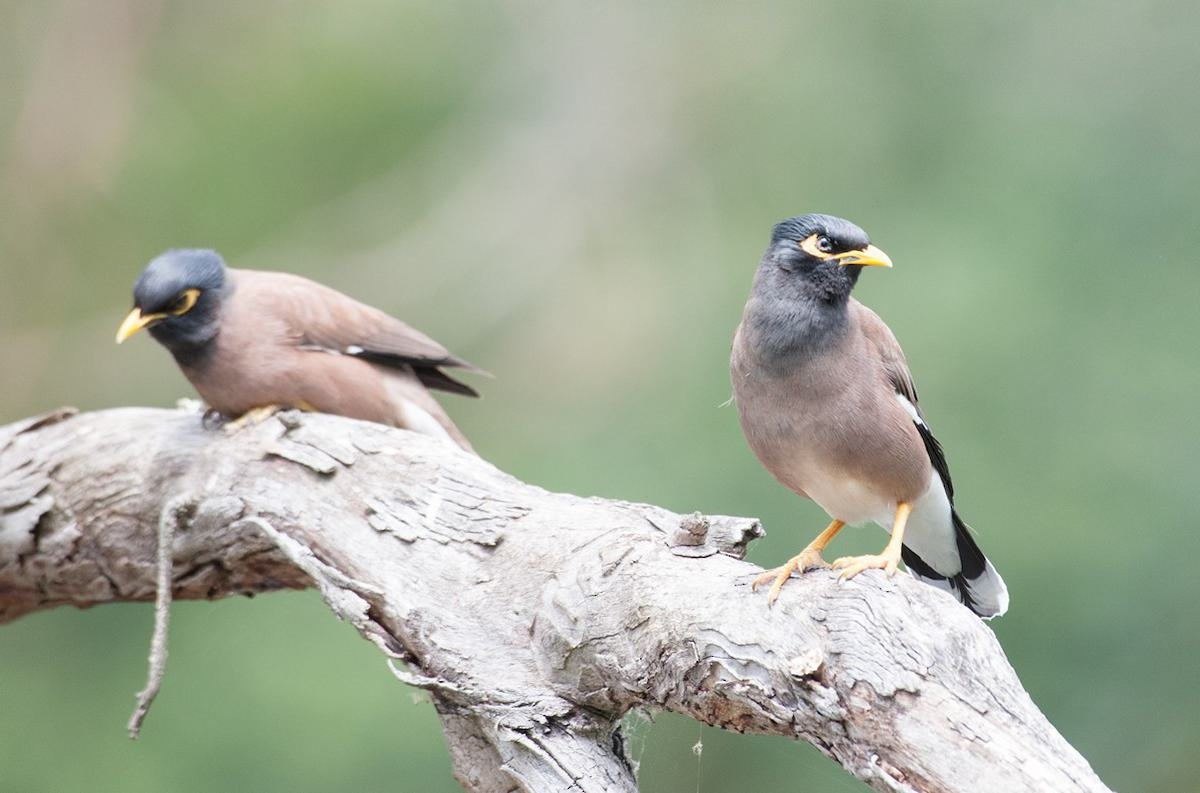myna: (710, 198, 1031, 616), (104, 199, 464, 489)
